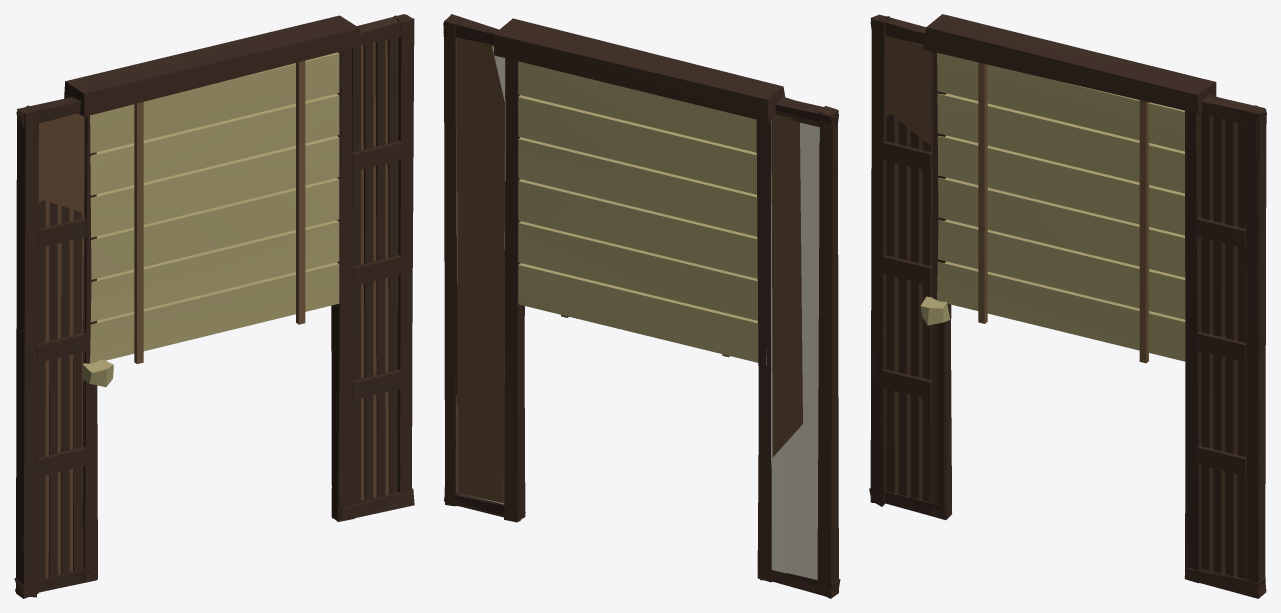
Rendered from shutters.glb.
The picture shows the model from 3 angles, left to right: view 1: azimuth 30°, elevation 25°; view 2: azimuth 150°, elevation 25°; view 3: azimuth 330°, elevation 25°; orthographic projection.
Visible parts, largest first — view 1: shutters.v1.mesh, shutters.v0.mesh, shutters.v2.mesh; view 2: shutters.v1.mesh, shutters.v2.mesh, shutters.v0.mesh; view 3: shutters.v1.mesh, shutters.v0.mesh, shutters.v2.mesh.
Part boxes in pixels (x1,y1,x2,y2): shutters.v1.mesh: [64, 15, 359, 387]; shutters.v0.mesh: [15, 15, 414, 598]; shutters.v2.mesh: [14, 14, 414, 597]; shutters.v1.mesh: [494, 18, 785, 364]; shutters.v2.mesh: [443, 17, 838, 595]; shutters.v0.mesh: [443, 14, 840, 598]; shutters.v1.mesh: [920, 14, 1216, 363]; shutters.v0.mesh: [869, 14, 1266, 598]; shutters.v2.mesh: [870, 18, 1266, 586].
Size of the model in its own units: 0.9691 by 1.17 by 0.1198.
